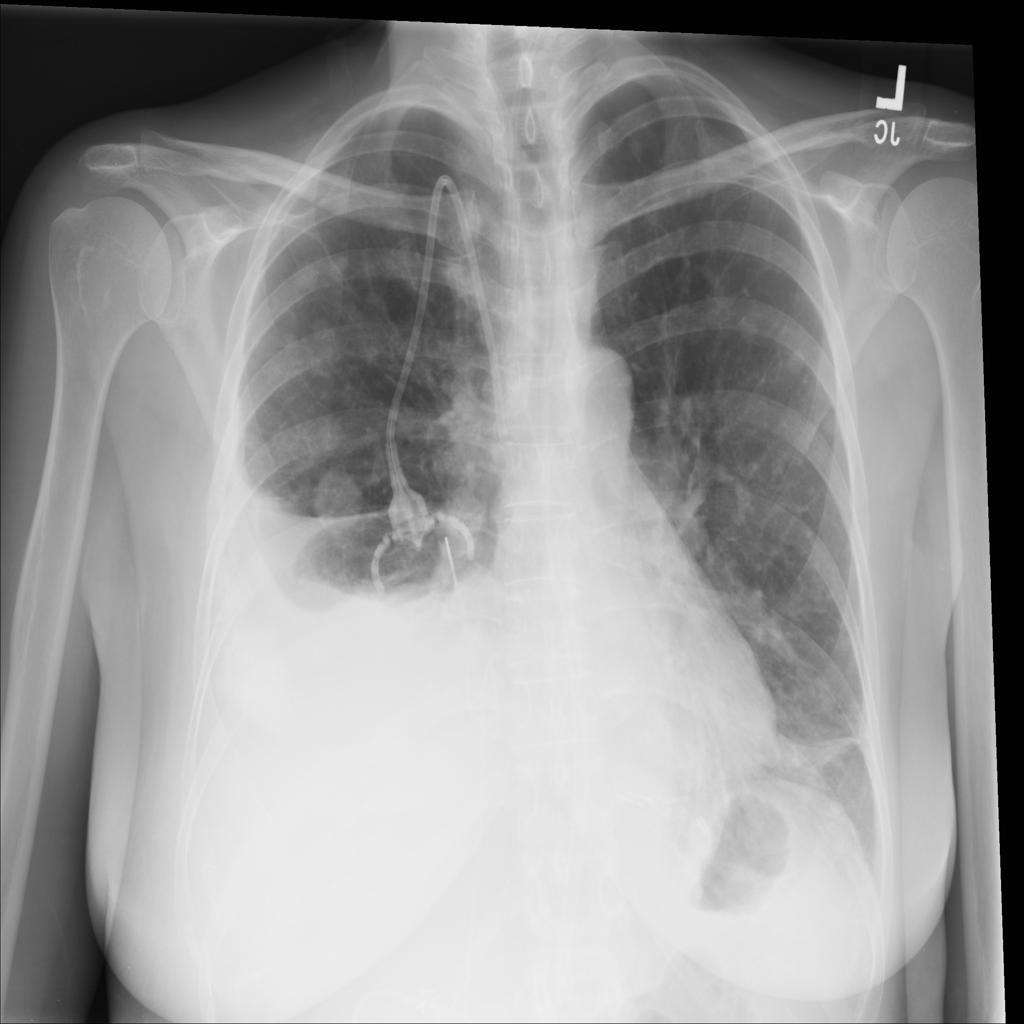nodule: (306, 459, 373, 539), (780, 340, 826, 388), (724, 304, 768, 352)
